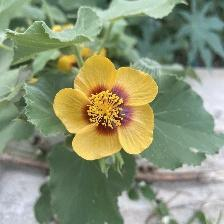indian mallow: (53, 54, 160, 163)
